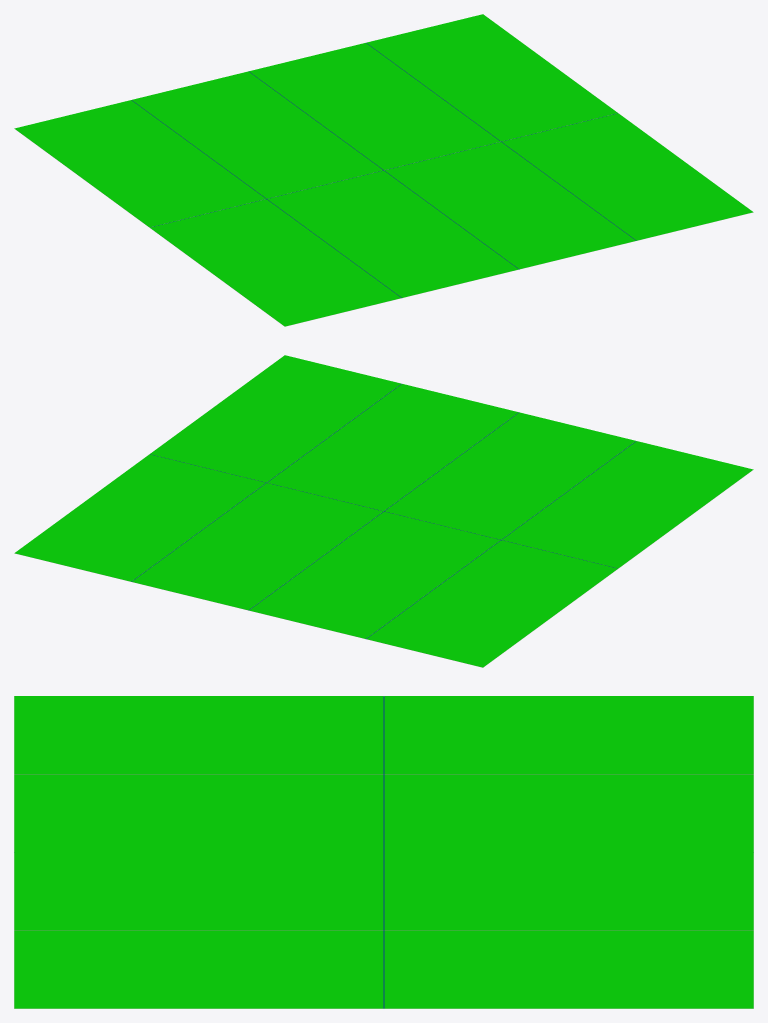
The model's file is Crew_Floor.fbx.
The picture shows the model from 3 angles, top to bottom: view 1: azimuth 30°, elevation 25°; view 2: azimuth 150°, elevation 25°; view 3: azimuth 270°, elevation 25°; orthographic projection. The views are drawn at different scales.
Visible parts, largest first — view 1: Floor; view 2: Floor; view 3: Floor.
Boxes of the visible parts, bbox=[...] form: Floor: bbox=[14, 14, 753, 326]; Floor: bbox=[14, 355, 753, 667]; Floor: bbox=[14, 696, 753, 1008].
Size of the model in its own units: 800 by 0.1851 by 800.
